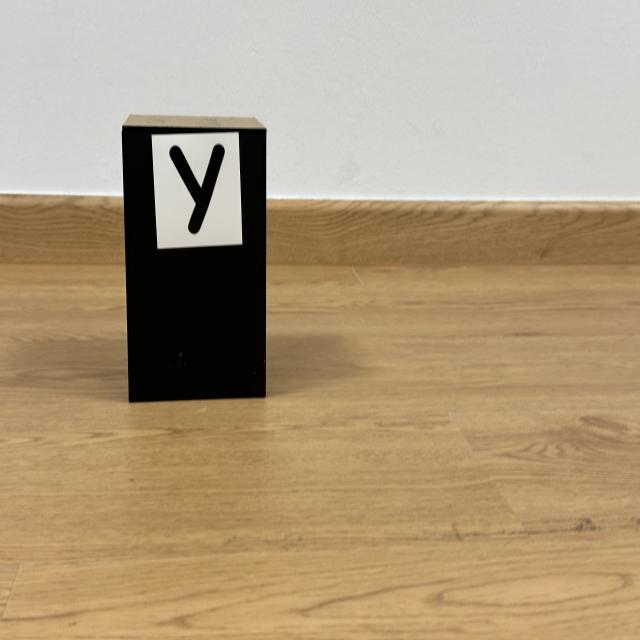Y: (169, 145, 225, 233)
